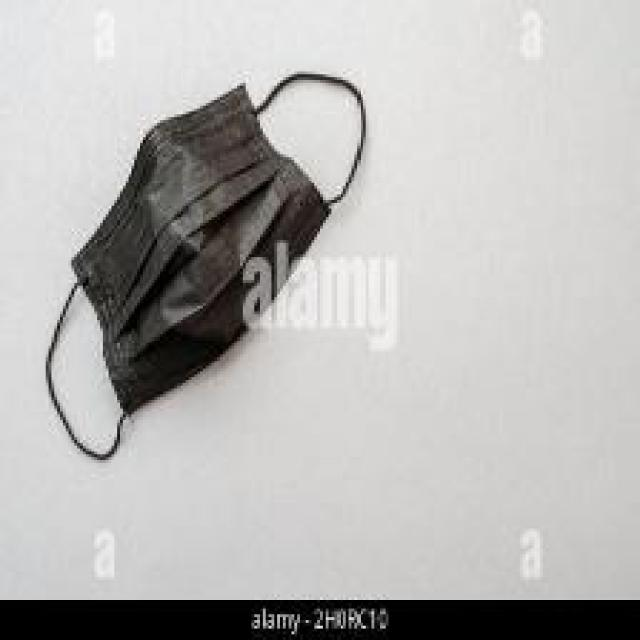Mask: (41, 73, 379, 462)
